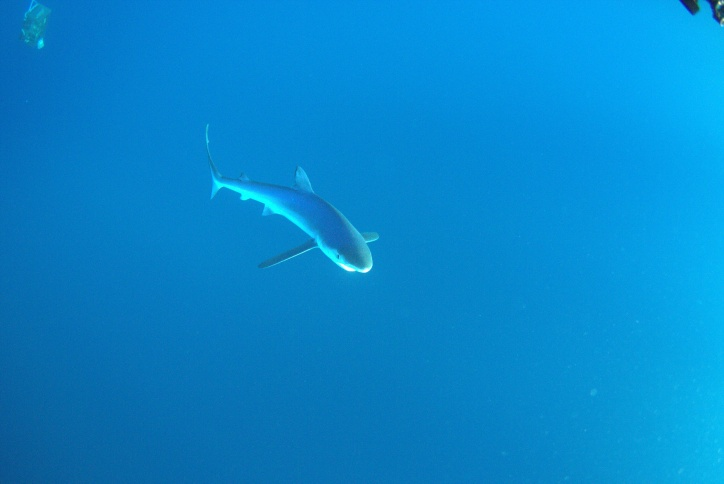Azul: (188, 104, 396, 302)
